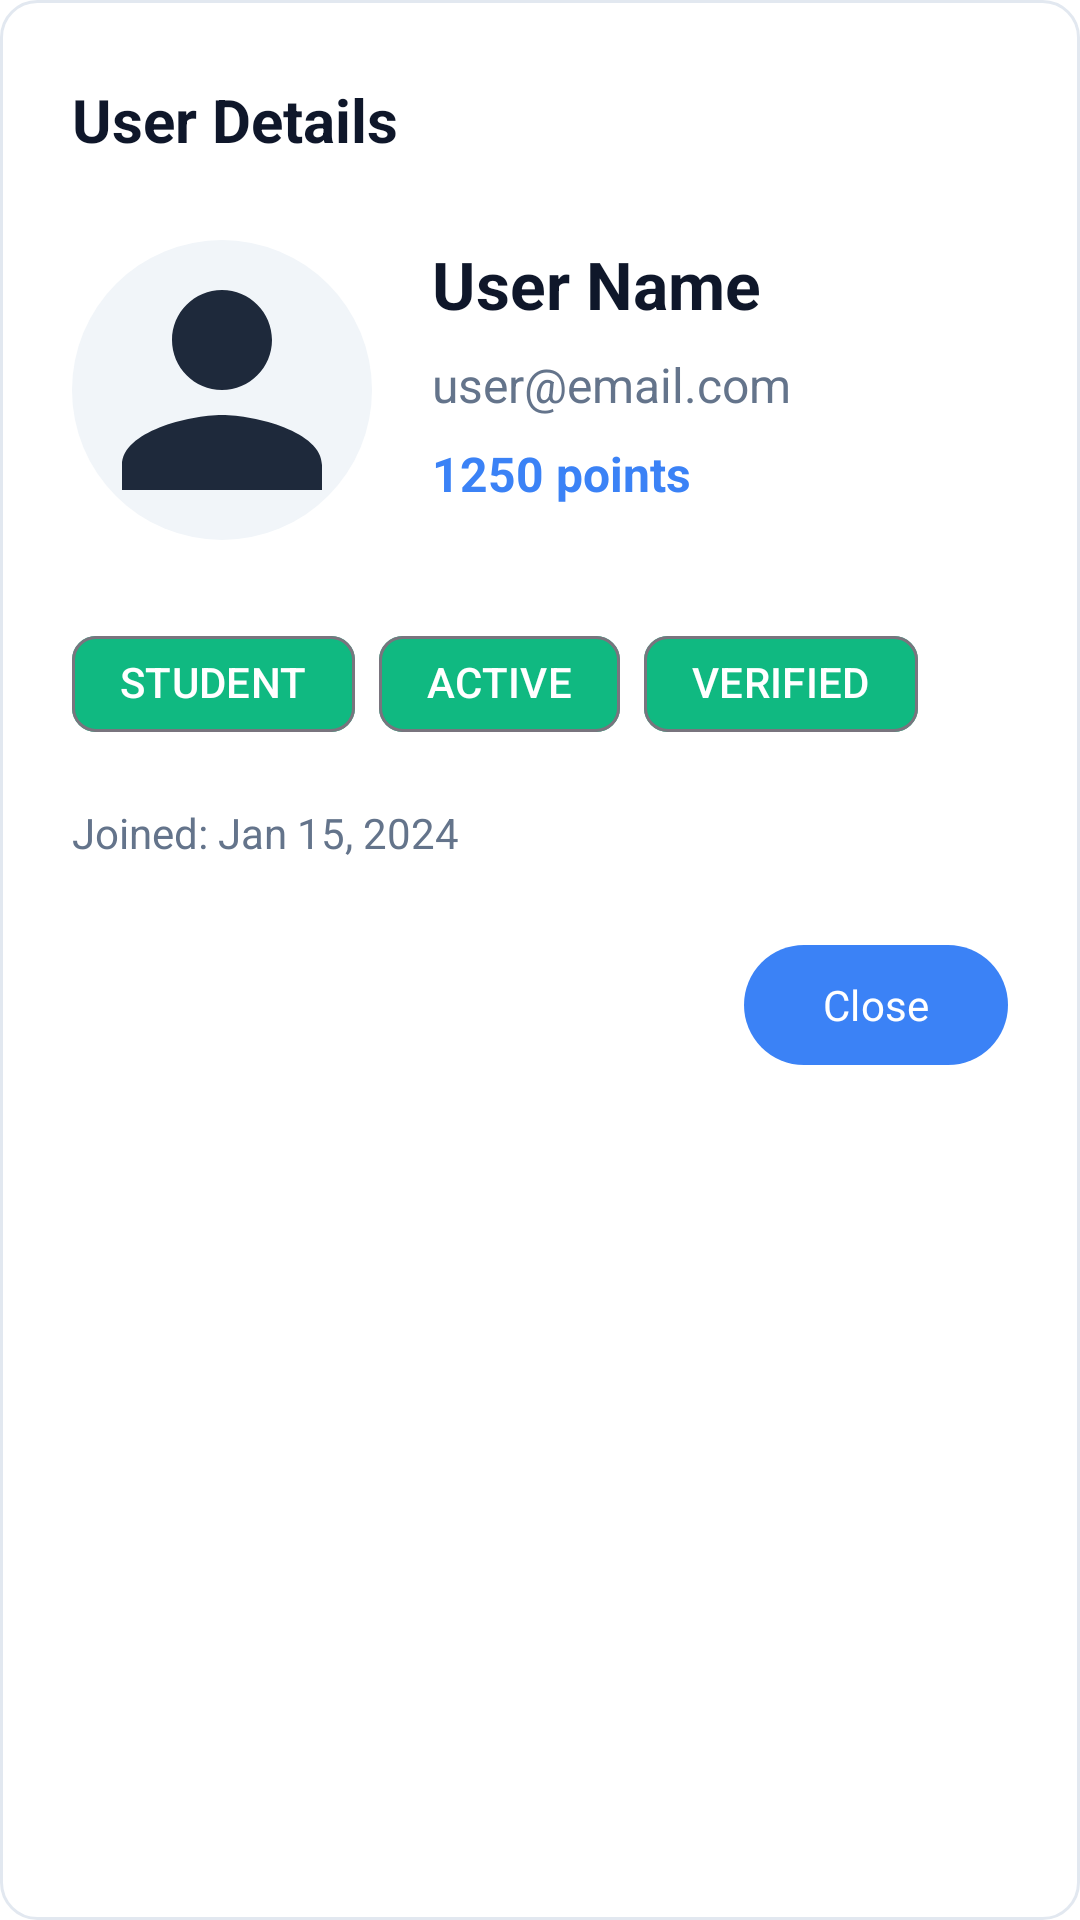

Point at icon controls on the screen. Image size 1080×1920, points as (x=x, y=y).
profile: (x=222, y=390)
